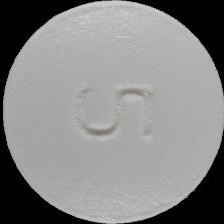60760-546: (0, 0, 224, 224)
